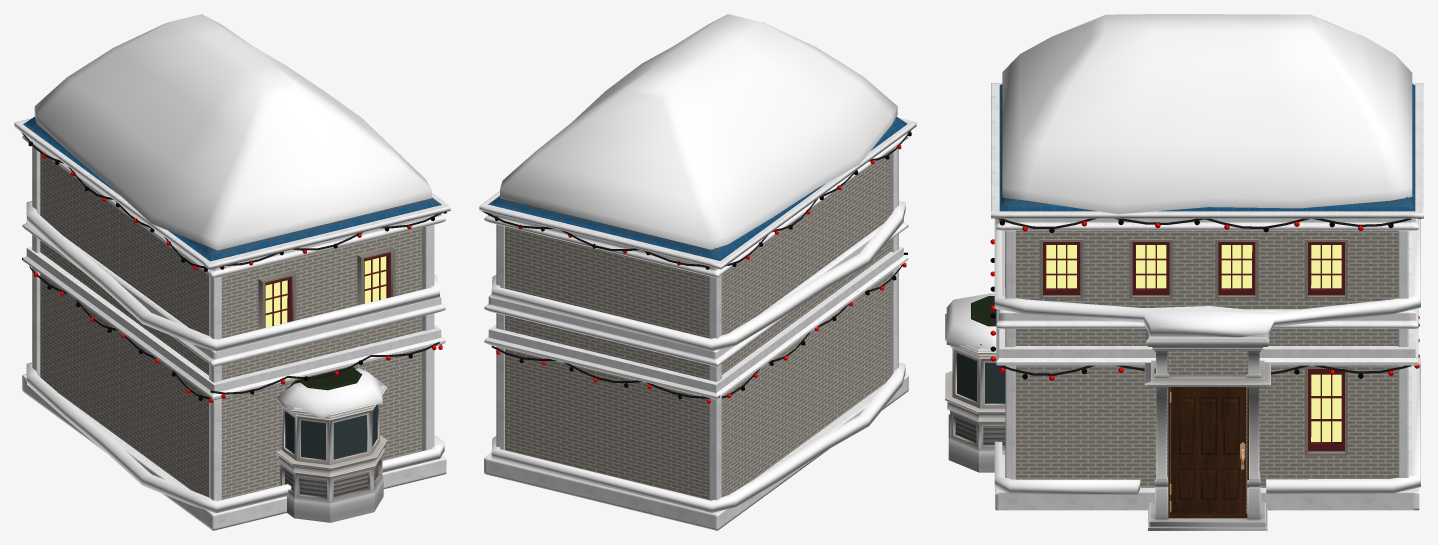
File: House_2.fbx
The picture shows the model from 3 angles, left to right: view 1: azimuth 30°, elevation 25°; view 2: azimuth 150°, elevation 25°; view 3: azimuth 270°, elevation 25°; orthographic projection. The views are drawn at different scales.
Visible parts, largest first — view 1: U_Body, U_Snow__1_, U_Window_Hexagon__2_, U_Window_Hexagon_Glass, U_Window__11_, U_Window__7_, U_Wire__1_, U_Light__1_; view 2: U_Body, U_Snow__1_, U_Wire__1_, U_Light__1_; view 3: U_Snow__1_, U_Body, U_Wall, U_Door_B, U_Door_Border_White, U_Window_Hexagon__2_, U_Window__2_, U_Window__6_, U_Window__9_, U_Window__3_, U_Window__8_, U_Wire__1_ (+3 smaller).
Boxes of the visible parts, left/top/right/bottom form: U_Body: left=14, top=116, right=450, bottom=530; U_Snow__1_: left=26, top=14, right=444, bottom=513; U_Window_Hexagon__2_: left=276, top=367, right=387, bottom=522; U_Window_Hexagon_Glass: left=285, top=405, right=377, bottom=459; U_Window__11_: left=258, top=270, right=296, bottom=329; U_Window__7_: left=357, top=246, right=395, bottom=305; U_Wire__1_: left=21, top=132, right=442, bottom=398; U_Light__1_: left=28, top=141, right=446, bottom=402; U_Body: left=479, top=117, right=916, bottom=530; U_Snow__1_: left=491, top=14, right=905, bottom=512; U_Wire__1_: left=482, top=130, right=911, bottom=398; U_Light__1_: left=494, top=132, right=911, bottom=403; U_Snow__1_: left=946, top=14, right=1420, bottom=494; U_Body: left=991, top=83, right=1423, bottom=510; U_Wall: left=1015, top=329, right=1398, bottom=513; U_Door_B: left=1170, top=387, right=1246, bottom=514; U_Door_Border_White: left=1144, top=329, right=1270, bottom=530; U_Window_Hexagon__2_: left=945, top=296, right=1005, bottom=472; U_Window__2_: left=1304, top=365, right=1348, bottom=455; U_Window__6_: left=1304, top=239, right=1348, bottom=298; U_Window__9_: left=1039, top=239, right=1083, bottom=298; U_Window__3_: left=1215, top=239, right=1258, bottom=298; U_Window__8_: left=1129, top=239, right=1172, bottom=298; U_Wire__1_: left=998, top=218, right=1411, bottom=375.
Size of the model in its own units: 624 by 786 by 806.
12 materials, 7 textured.
